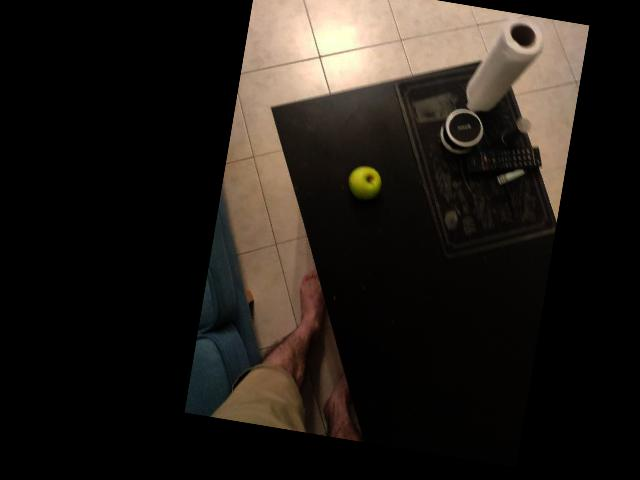apple: (338, 108, 397, 161)
